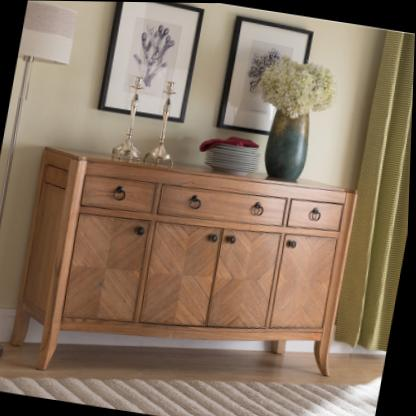Cupboard: (12, 149, 357, 373)
Curtains: (334, 30, 415, 352)
Frame: (98, 1, 204, 121)
Lamp: (0, 0, 79, 366)
Wooden floor: (0, 334, 389, 385)
